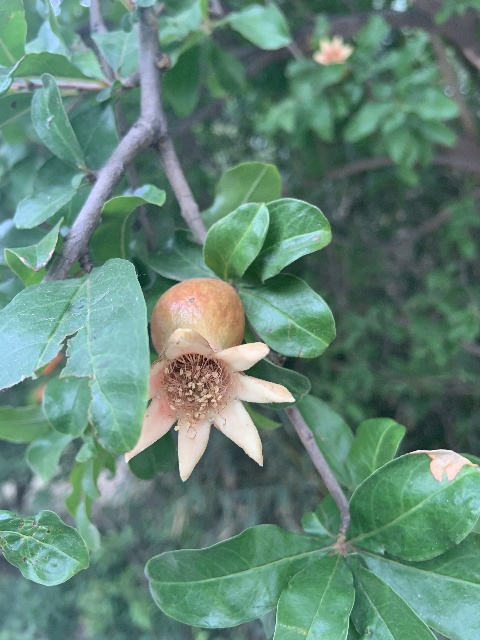early-fruit: (125, 276, 294, 481)
